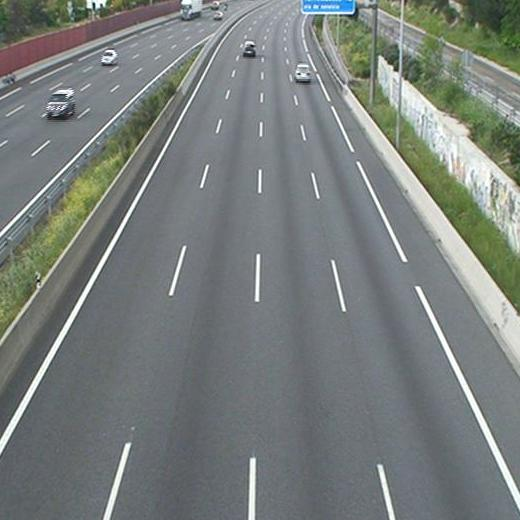car: (295, 63, 312, 84), (242, 40, 257, 58)
